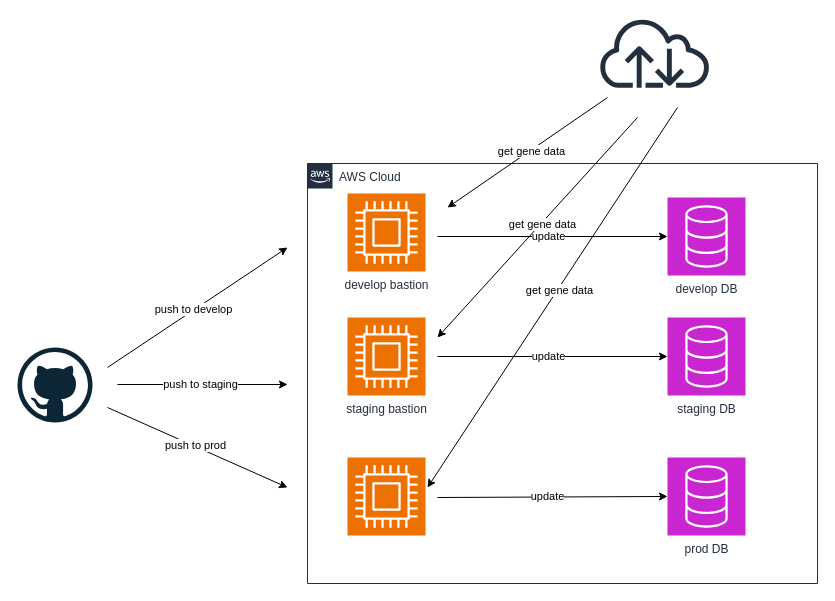
Some shapes in this 835 by 601 pixel diagram are drawn without their labels. The centre of each missing label's shape, as x and y in pixels:
Github trigger: point 54,384
prod bastion: point 386,496
Synapse: point 654,52
